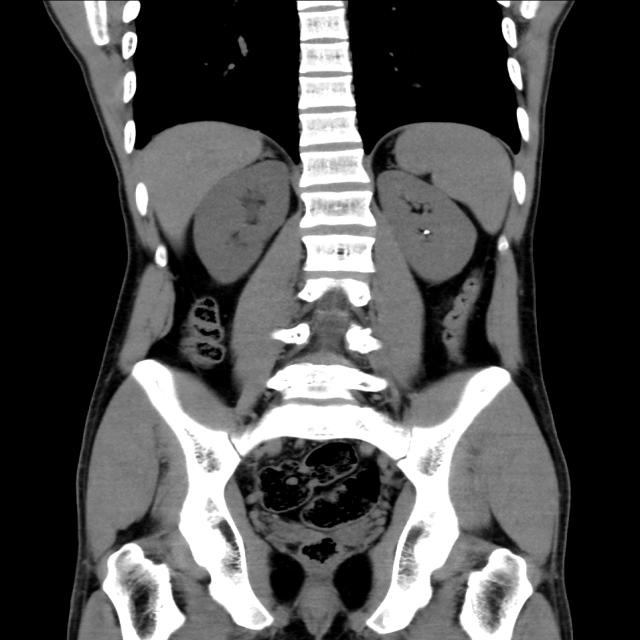kidneystone: (423, 229, 431, 236)
